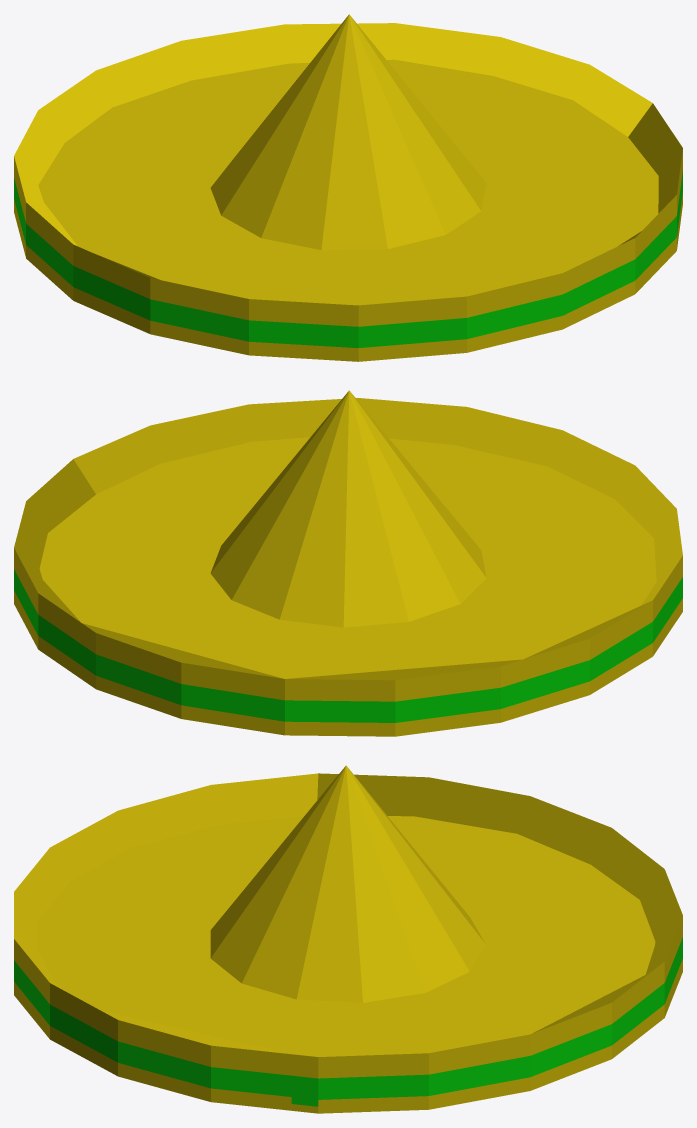
The model's file is sombrero.fbx.
3 views of the same model, one above another, from view 1: azimuth 30°, elevation 25°; view 2: azimuth 150°, elevation 25°; view 3: azimuth 270°, elevation 25° (orthographic).
Parts seen in each view (by area): view 1: Cylinder; view 2: Cylinder; view 3: Cylinder.
Part boxes in pixels (box(x1,y1,x2,y2)): Cylinder: box(14, 14, 682, 361); Cylinder: box(14, 390, 682, 736); Cylinder: box(14, 765, 682, 1113).
Size of the model in its own units: 199 by 67.66 by 199.
